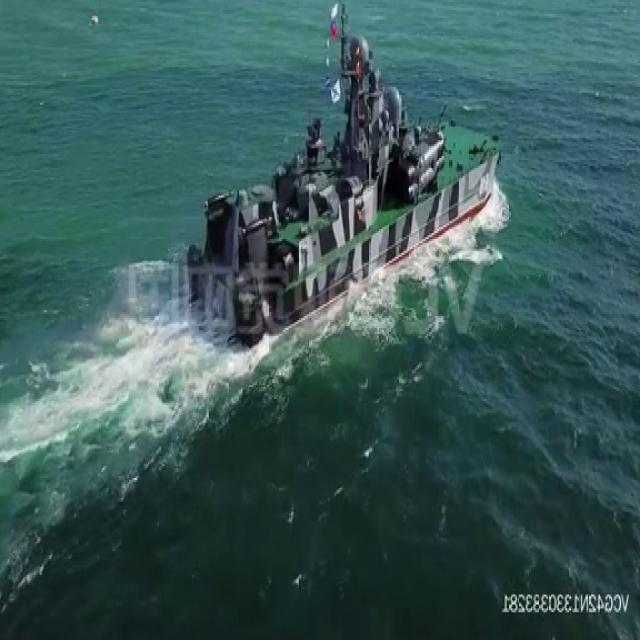houseboat: (180, 26, 508, 342)
